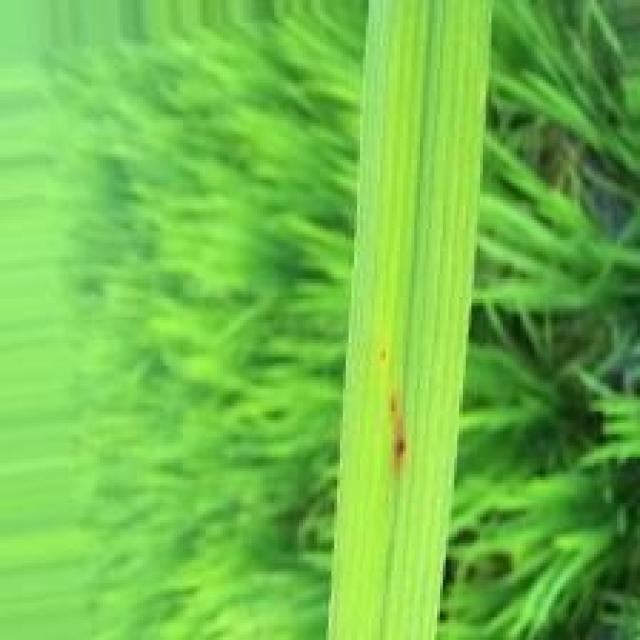Brown_Spot: (384, 389, 409, 477)
